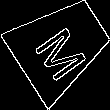M_NE: (29, 13, 92, 79)
